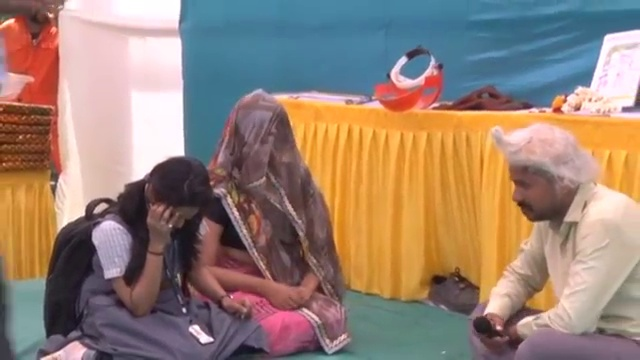helmet: (0, 70, 37, 109)
helmet_off: (501, 120, 593, 232), (223, 86, 303, 197), (138, 158, 210, 220), (11, 3, 65, 38)
person: (22, 161, 267, 359), (193, 91, 349, 358), (472, 121, 638, 347), (1, 4, 64, 106)
